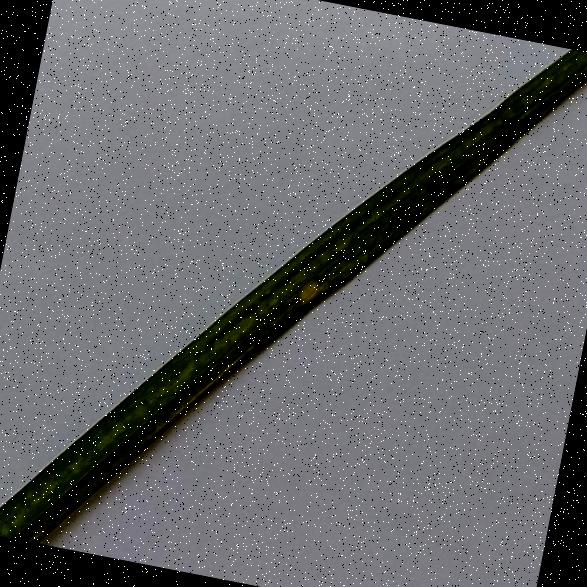Leaf_smut: (288, 267, 333, 314)
